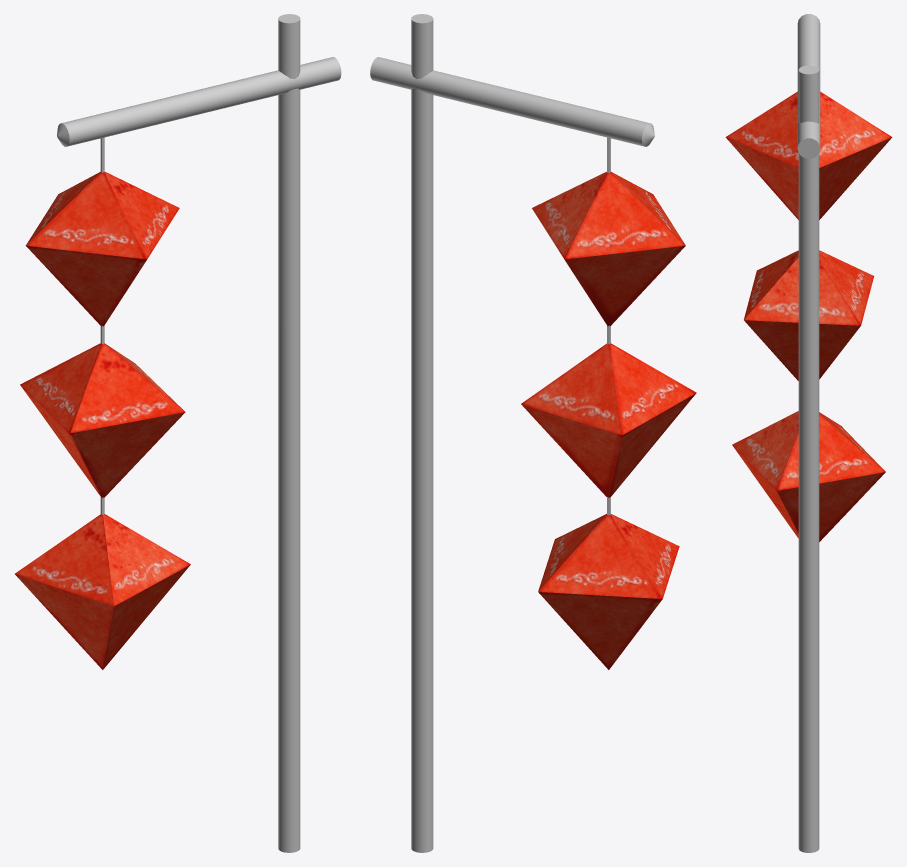
File: lantern.fbx
The picture shows the model from 3 angles, left to right: view 1: azimuth 30°, elevation 25°; view 2: azimuth 150°, elevation 25°; view 3: azimuth 270°, elevation 25°; orthographic projection. The views are drawn at different scales.
Parts seen in each view (by area): view 1: lantern2, lantern_body2; view 2: lantern2, lantern_body2; view 3: lantern2, lantern_body2.
Boxes of the visible parts, x1,y1,x2,y2 form: lantern2: [15, 172, 190, 669]; lantern_body2: [57, 14, 341, 852]; lantern2: [521, 171, 696, 669]; lantern_body2: [370, 14, 654, 852]; lantern2: [725, 91, 892, 541]; lantern_body2: [797, 14, 820, 852].
Bounding box in the file's own units: 1.09 × 2.78 × 0.5411.
